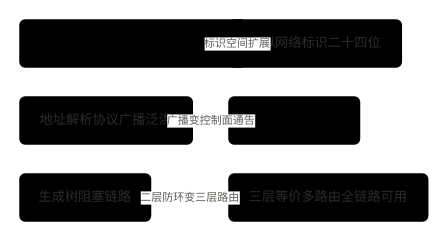
The diagram is 448 pixels wide and 241 high, and some of its shapes have lost their labels. Here are the shapes that lost their labels. From the top down, the centre of each, then its label:
the point at 132,43: 虚拟局域网四千零九十六个标识
the point at 293,120: 第二类路由抑制
